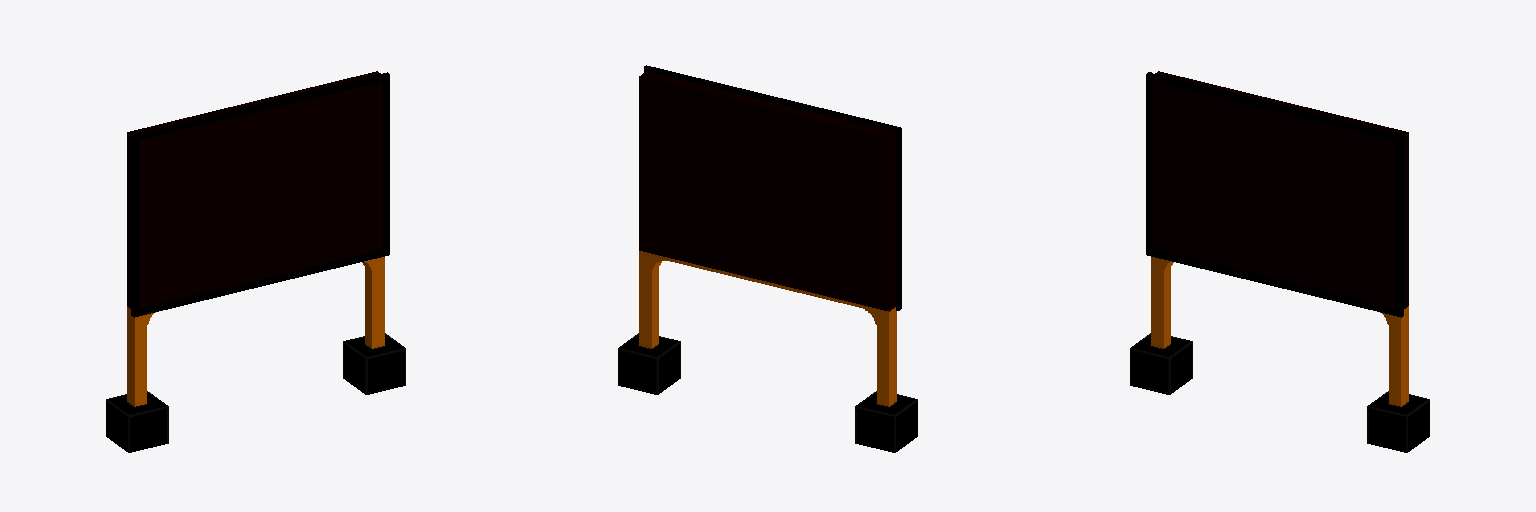
The picture shows the model from 3 angles: view 1: azimuth 30°, elevation 25°; view 2: azimuth 150°, elevation 25°; view 3: azimuth 330°, elevation 25°; orthographic projection.
Parts seen in each view (by area): view 1: object 1; view 2: object 1; view 3: object 1.
Boxes of the visible parts, <box> form: object 1: <box>106,71,405,452</box>; object 1: <box>618,65,917,452</box>; object 1: <box>1130,71,1429,452</box>.
Size of the model in its own units: 18 by 19.2 by 2.6.
1 materials, 1 textured.